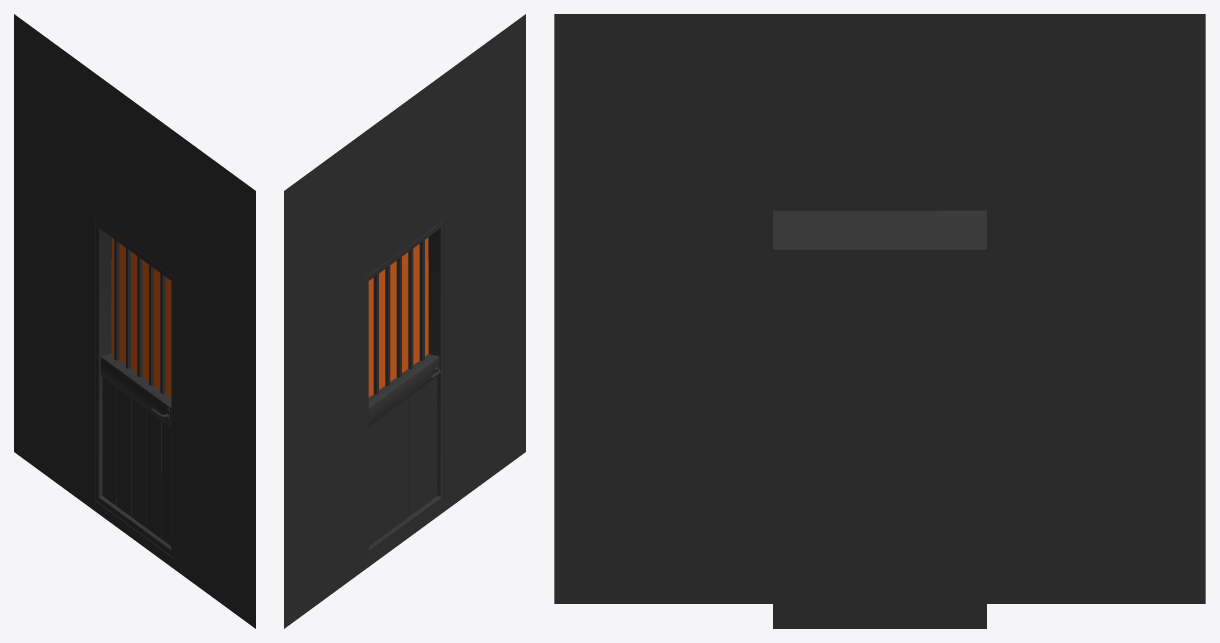
The model's file is SM_Wall_02a_Doors.fbx.
The picture shows the model from 3 angles, left to right: view 1: azimuth 30°, elevation 25°; view 2: azimuth 150°, elevation 25°; view 3: azimuth 270°, elevation 25°; orthographic projection. The views are drawn at different scales.
Parts seen in each view (by area): view 1: SM_Wall_02a_Doors_LOD0; view 2: SM_Wall_02a_Doors_LOD0; view 3: SM_Wall_02a_Doors_LOD0.
Part boxes in pixels (x1,y1,x2,y2): SM_Wall_02a_Doors_LOD0: [14, 14, 255, 628]; SM_Wall_02a_Doors_LOD0: [284, 14, 525, 628]; SM_Wall_02a_Doors_LOD0: [554, 14, 1205, 628].
Bounding box in the file's own units: 46.66 × 300 × 300.
